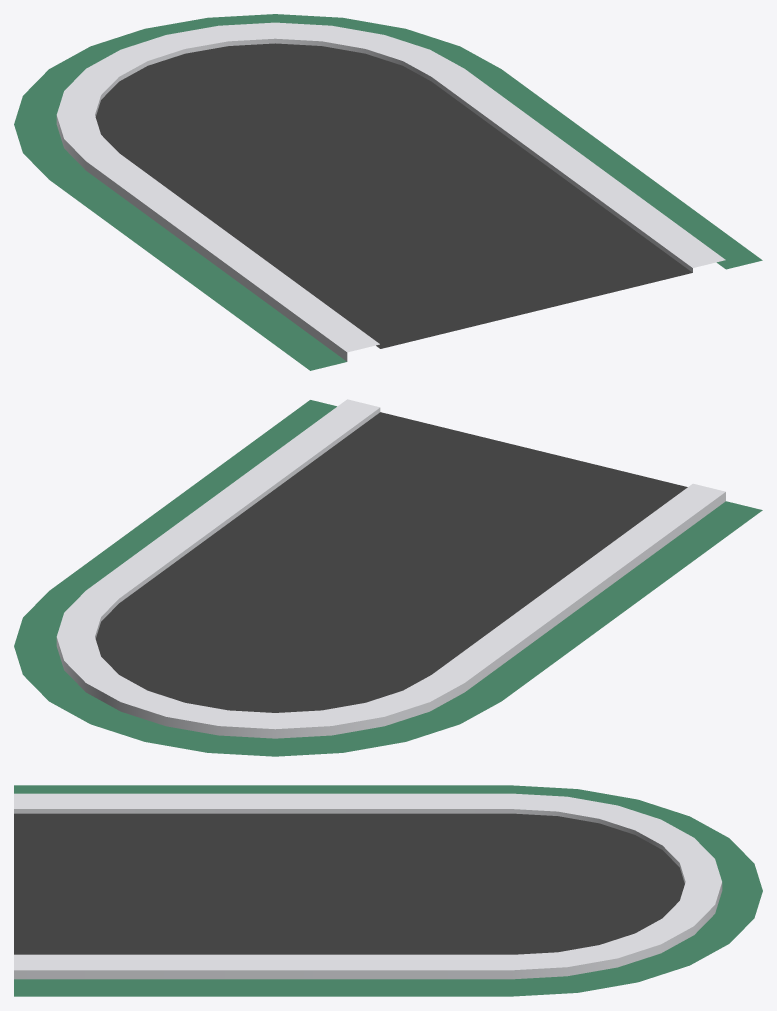
File: roadEnd.glb
3 renders of one model, top to bottom at view 1: azimuth 30°, elevation 25°; view 2: azimuth 150°, elevation 25°; view 3: azimuth 270°, elevation 25°, orthographic. The views are drawn at different scales.
Parts seen in each view (by area): view 1: roadEnd(Clone); view 2: roadEnd(Clone); view 3: roadEnd(Clone).
Boxes of the visible parts, x1,y1,x2,y2 form: roadEnd(Clone): (14, 14, 762, 370); roadEnd(Clone): (14, 399, 762, 756); roadEnd(Clone): (14, 785, 762, 996).
Size of the model in its own units: 1 by 0.02 by 1.5.
